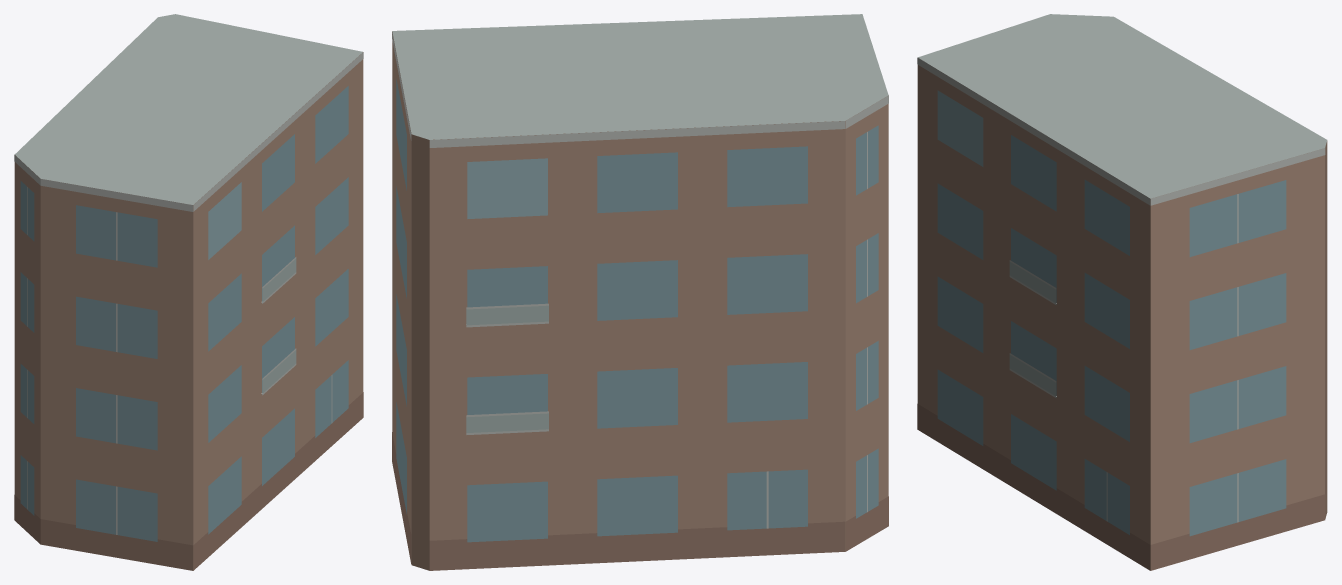
Rendered from survey-upis-32639184.glb.
The picture shows the model from 3 angles, left to right: view 1: azimuth 30°, elevation 25°; view 2: azimuth 150°, elevation 25°; view 3: azimuth 270°, elevation 25°; orthographic projection. The views are drawn at different scales.
Visible parts, largest first — view 1: survey-upis-32639184.tmp; view 2: survey-upis-32639184.tmp; view 3: survey-upis-32639184.tmp.
Part boxes in pixels (left/top/right/bottom): survey-upis-32639184.tmp: left=14, top=14, right=363, bottom=570; survey-upis-32639184.tmp: left=392, top=14, right=888, bottom=570; survey-upis-32639184.tmp: left=917, top=14, right=1327, bottom=570.
Size of the model in its own units: 13.63 by 12.8 by 12.78.
